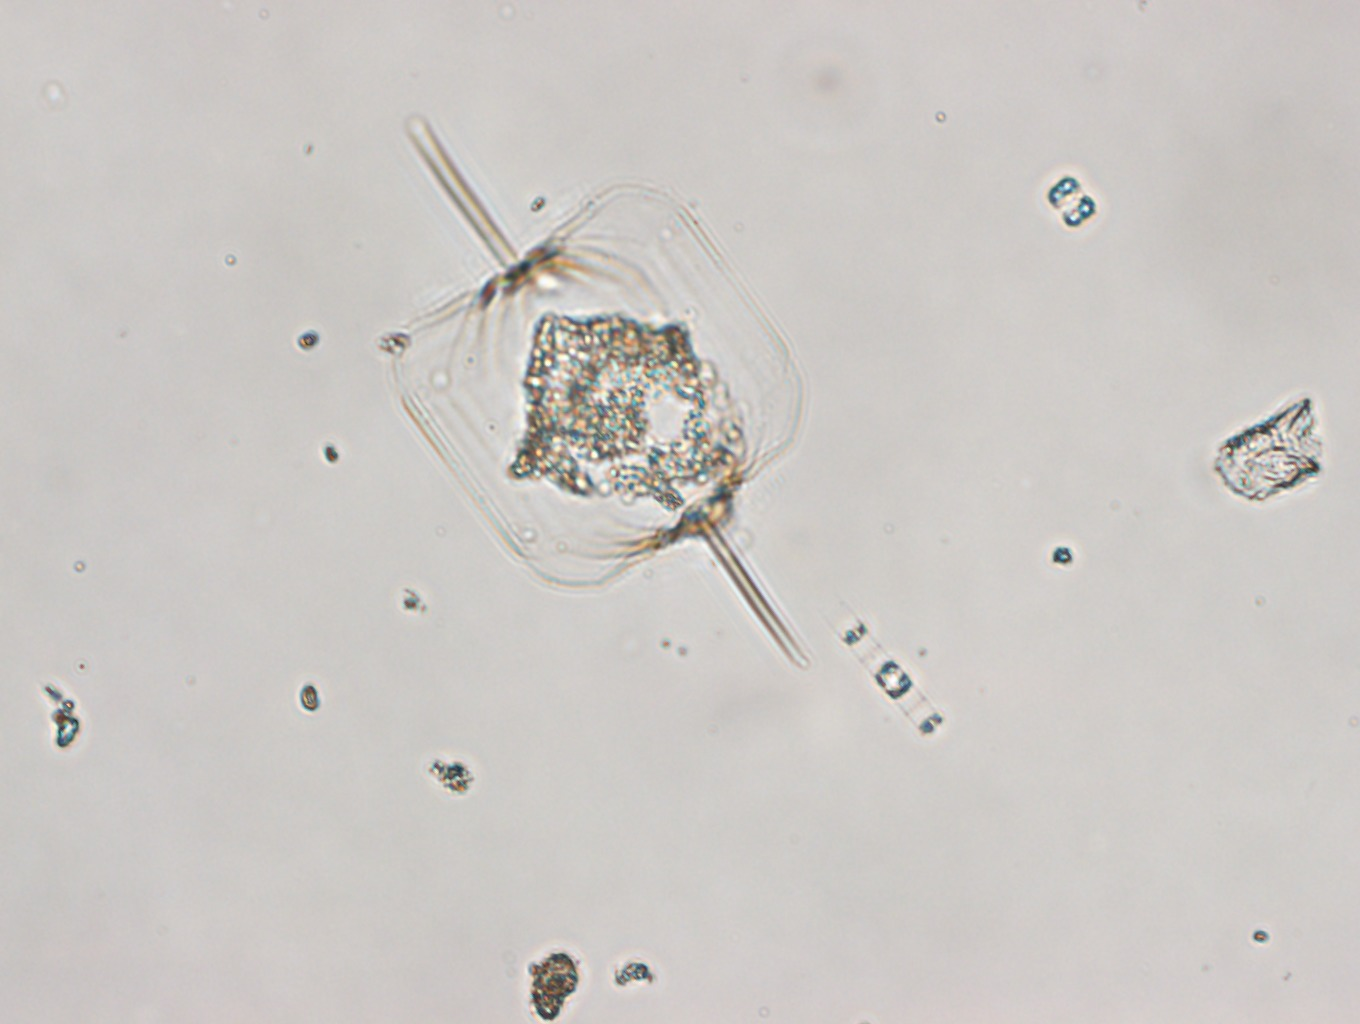ditylum: (380, 111, 814, 677)
skeletonema: (829, 609, 947, 743)
